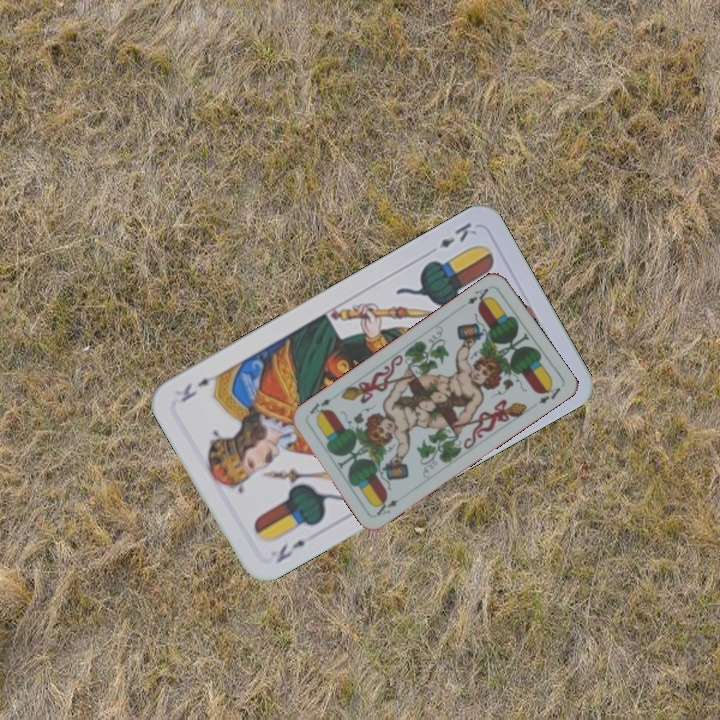EA: (463, 284, 494, 308), (372, 495, 400, 518)
EK: (435, 218, 480, 251), (272, 535, 309, 566)
